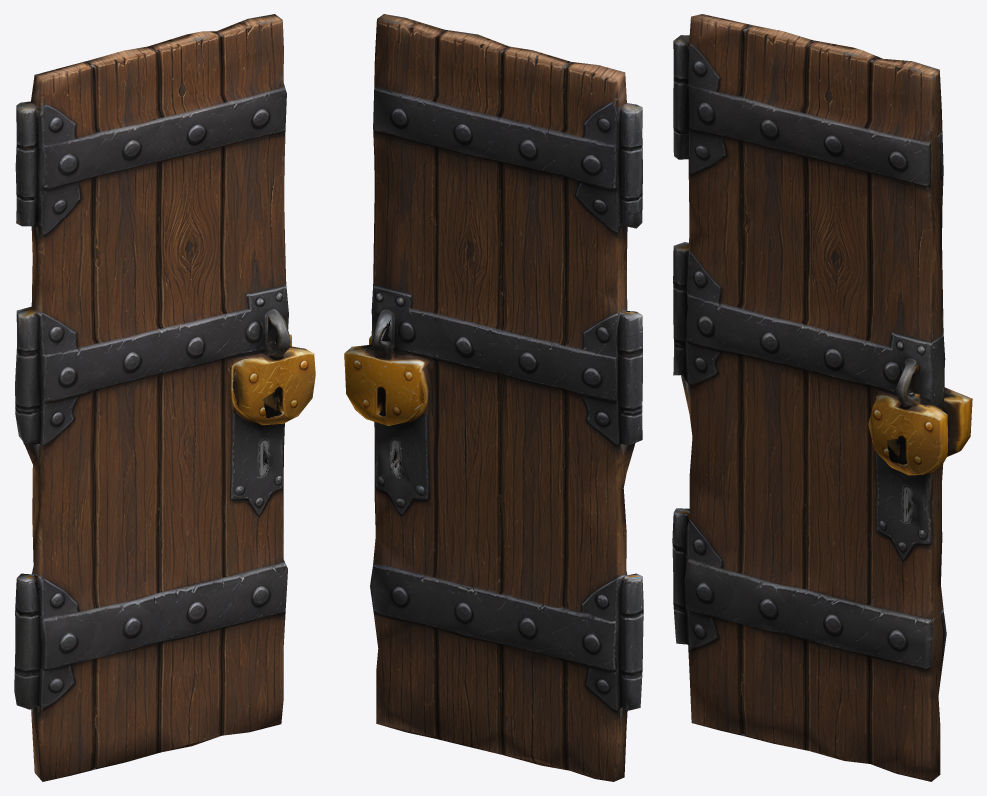
The model's file is Prop_DoorLeafLocked.fbx.
3 views of the same model, side by side, from view 1: azimuth 30°, elevation 25°; view 2: azimuth 150°, elevation 25°; view 3: azimuth 330°, elevation 25° (orthographic).
Parts seen in each view (by area): view 1: texture_mapping; view 2: texture_mapping; view 3: texture_mapping.
Boxes of the visible parts, <box> form: texture_mapping: <box>14,14,315,781</box>; texture_mapping: <box>344,14,643,781</box>; texture_mapping: <box>672,14,972,781</box>.
Bounding box in the file's own units: 0.4205 × 0.1116 × 0.9982.
Materials: 1 (1 with a texture image).
